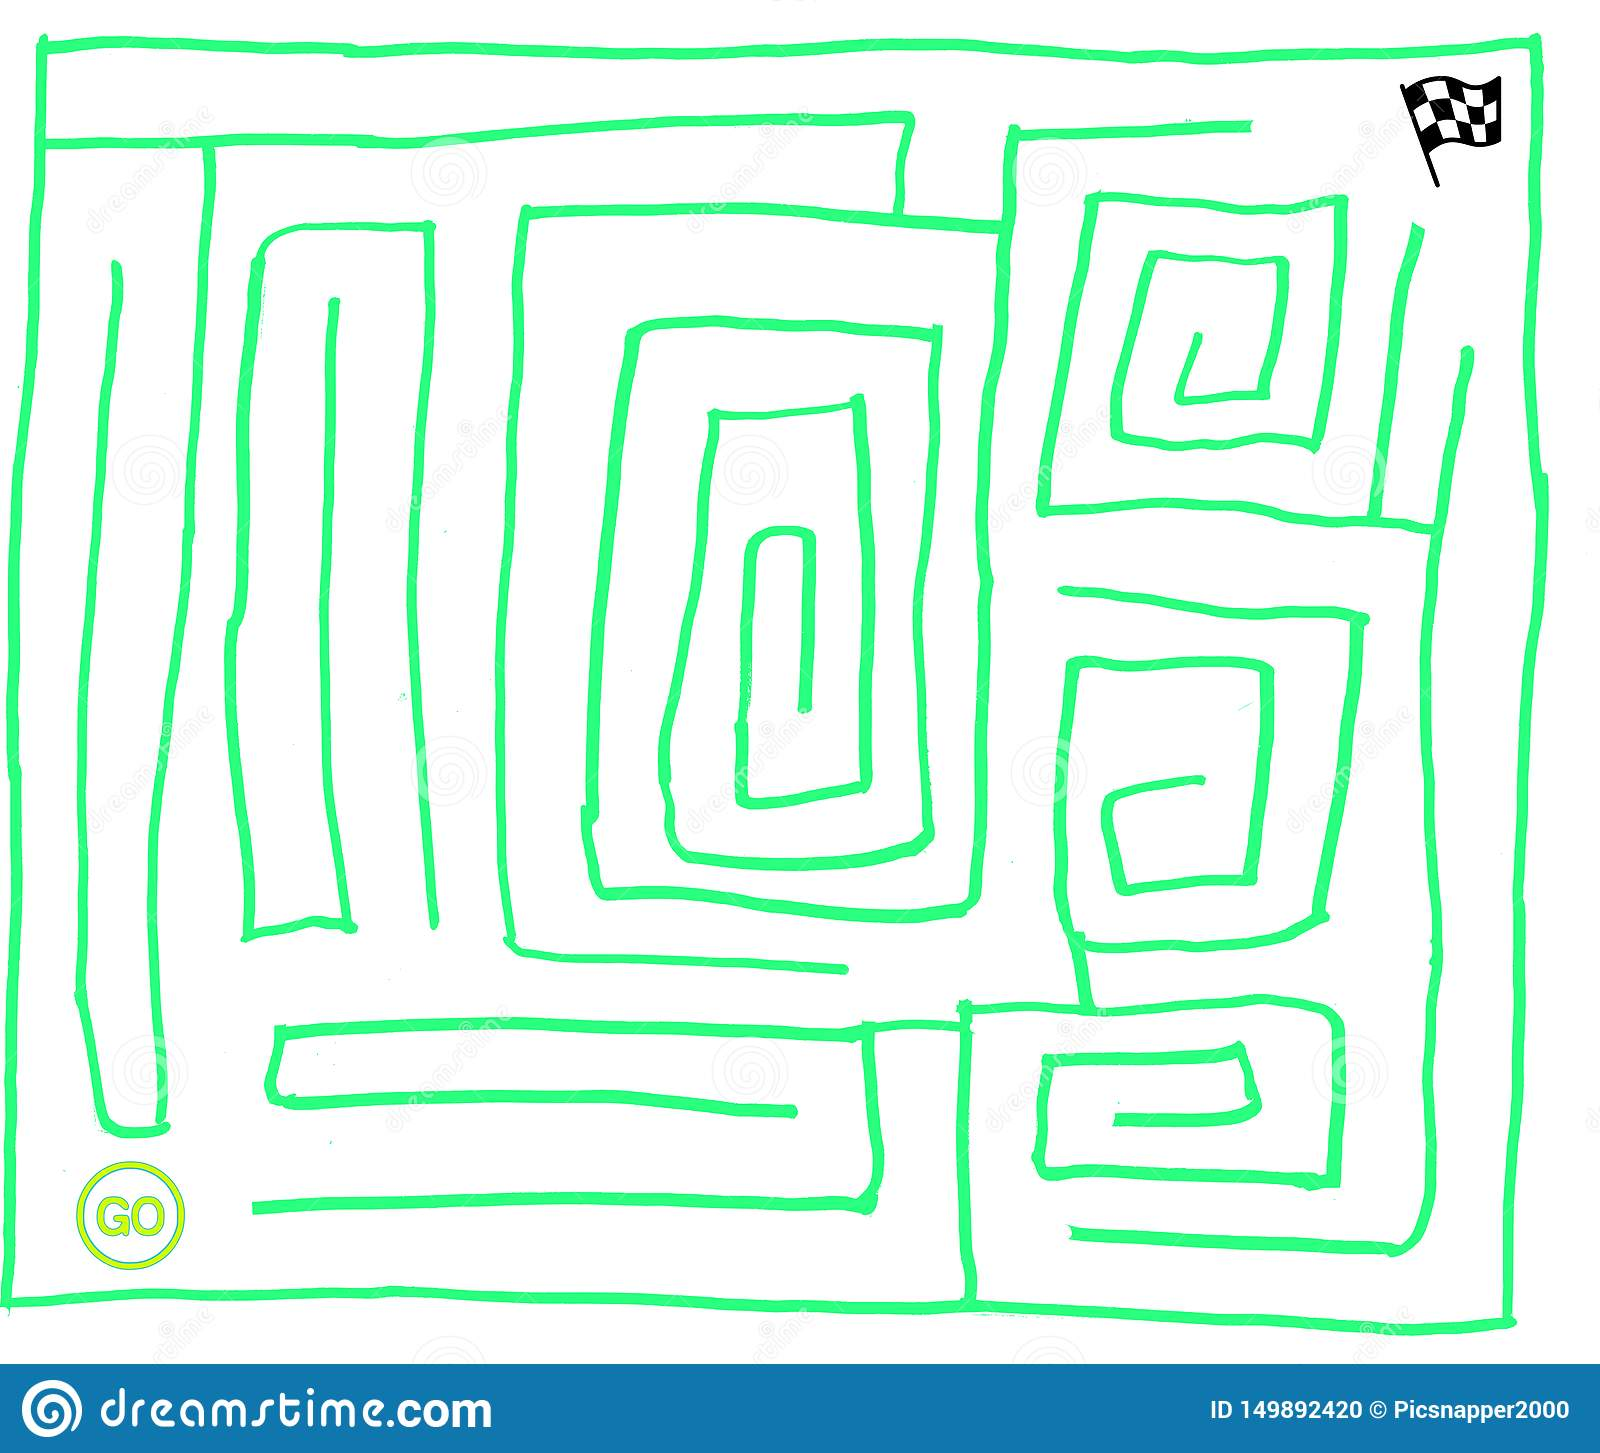maze: (1, 33, 1522, 1325)
